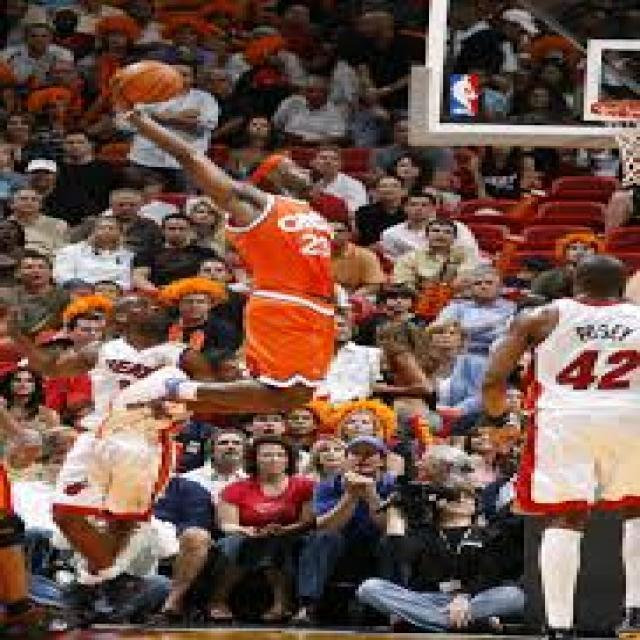rim: (112, 58, 186, 104)
